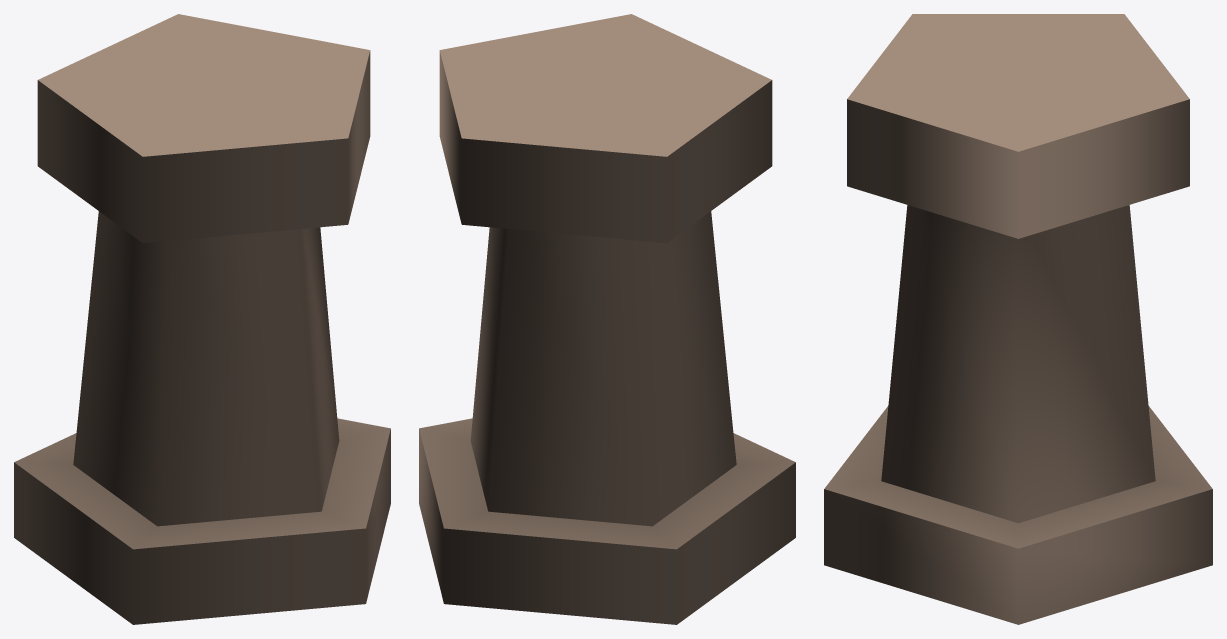
The model's file is mooring_bollard.lod2.glb.
3 renders of one model, left to right at view 1: azimuth 30°, elevation 25°; view 2: azimuth 150°, elevation 25°; view 3: azimuth 270°, elevation 25°, orthographic.
Parts seen in each view (by area): view 1: props_mooring_bollard.lod2; view 2: props_mooring_bollard.lod2; view 3: props_mooring_bollard.lod2.
Part boxes in pixels (left/top/right/bottom): props_mooring_bollard.lod2: left=14, top=14, right=390, bottom=624; props_mooring_bollard.lod2: left=419, top=14, right=795, bottom=624; props_mooring_bollard.lod2: left=824, top=14, right=1212, bottom=624.
Size of the model in its own units: 0.6151 by 0.85 by 0.6467.
